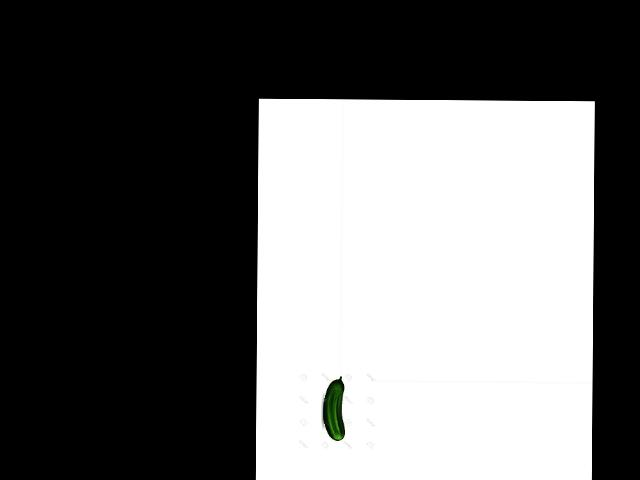cucumber: (322, 376, 345, 441)
